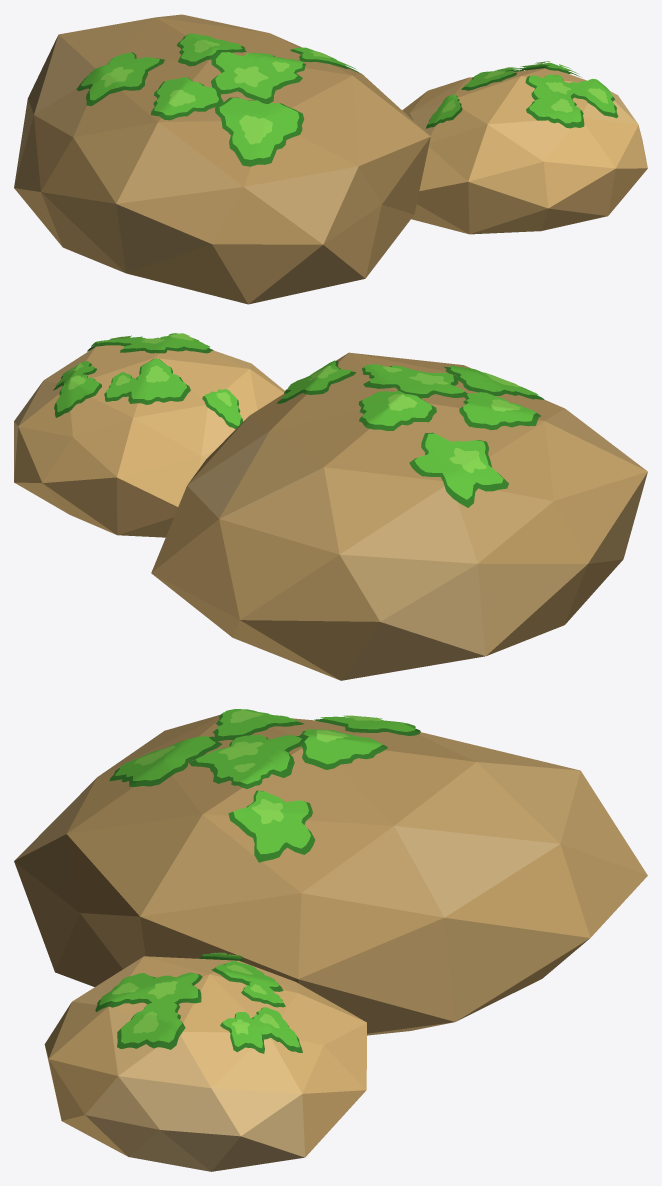
Rendered from rock_6_dots.glb.
3 views of the same model, one above another, from view 1: azimuth 30°, elevation 25°; view 2: azimuth 150°, elevation 25°; view 3: azimuth 270°, elevation 25° (orthographic). The views are drawn at different scales.
Parts seen in each view (by area): view 1: rock_6_dots; view 2: rock_6_dots; view 3: rock_6_dots.
Boxes of the visible parts, x1,y1,x2,y2 form: rock_6_dots: (14, 14, 647, 304); rock_6_dots: (14, 333, 647, 680); rock_6_dots: (14, 709, 647, 1171).
Bounding box in the file's own units: 2.68 × 0.8939 × 2.16.
